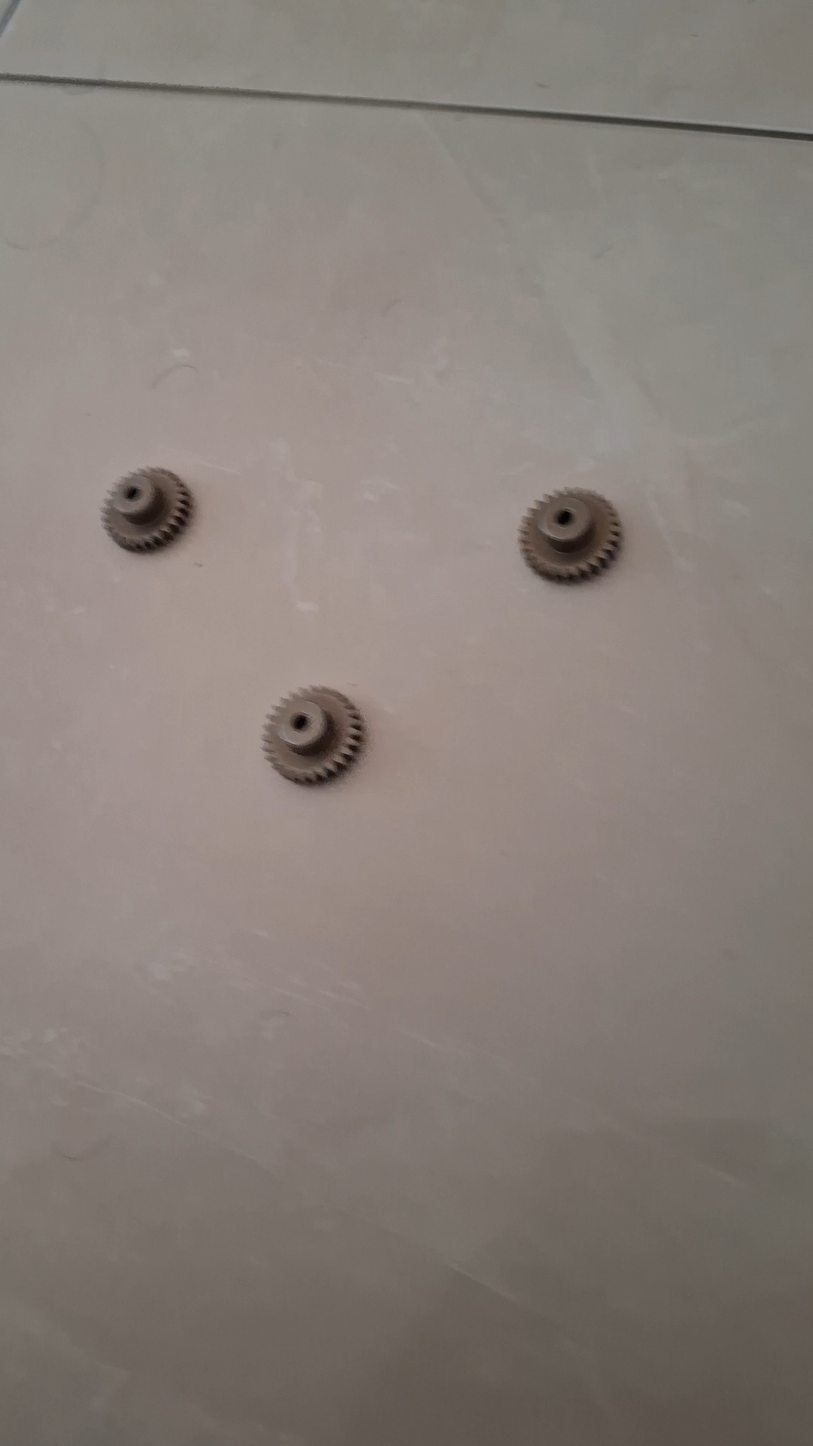spur gear: (263, 688, 364, 784), (520, 491, 621, 582), (102, 468, 192, 552)
